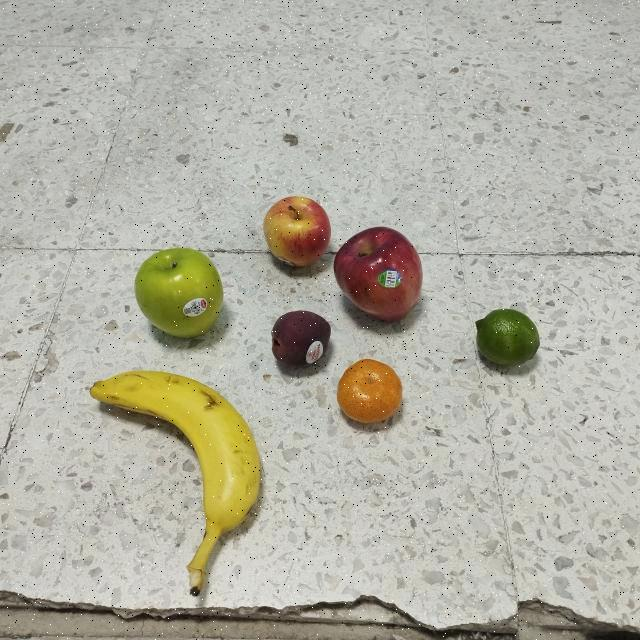Apel Gala: (249, 179, 341, 279)
Apel Granny Smith: (128, 238, 236, 354)
Apel Merah: (330, 207, 440, 323)
Jeruk Mandarin: (321, 358, 423, 424)
Lemon: (466, 304, 556, 377)
Persik: (254, 295, 342, 375)
Pisang: (87, 366, 286, 602)
